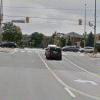Car: (40, 39, 61, 62)
